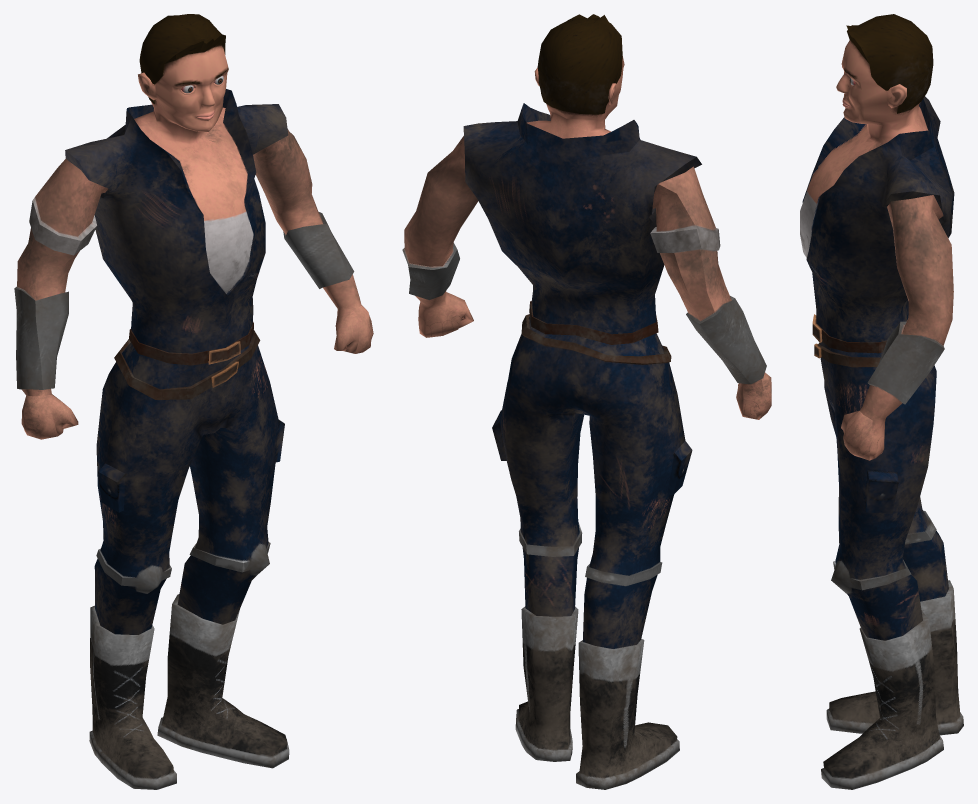
The model's file is Anim_abrir_puerta_ok_jugador.0016.obj.
The picture shows the model from 3 angles, left to right: view 1: azimuth 30°, elevation 25°; view 2: azimuth 150°, elevation 25°; view 3: azimuth 270°, elevation 25°; orthographic projection.
Visible parts, largest first — view 1: polySurface1; view 2: polySurface1; view 3: polySurface1.
Part boxes in pixels (bbox=[...]): polySurface1: bbox=[14, 14, 373, 789]; polySurface1: bbox=[402, 14, 771, 789]; polySurface1: bbox=[800, 14, 963, 789].
Bounding box in the file's own units: 4.79 × 9.62 × 1.95.
